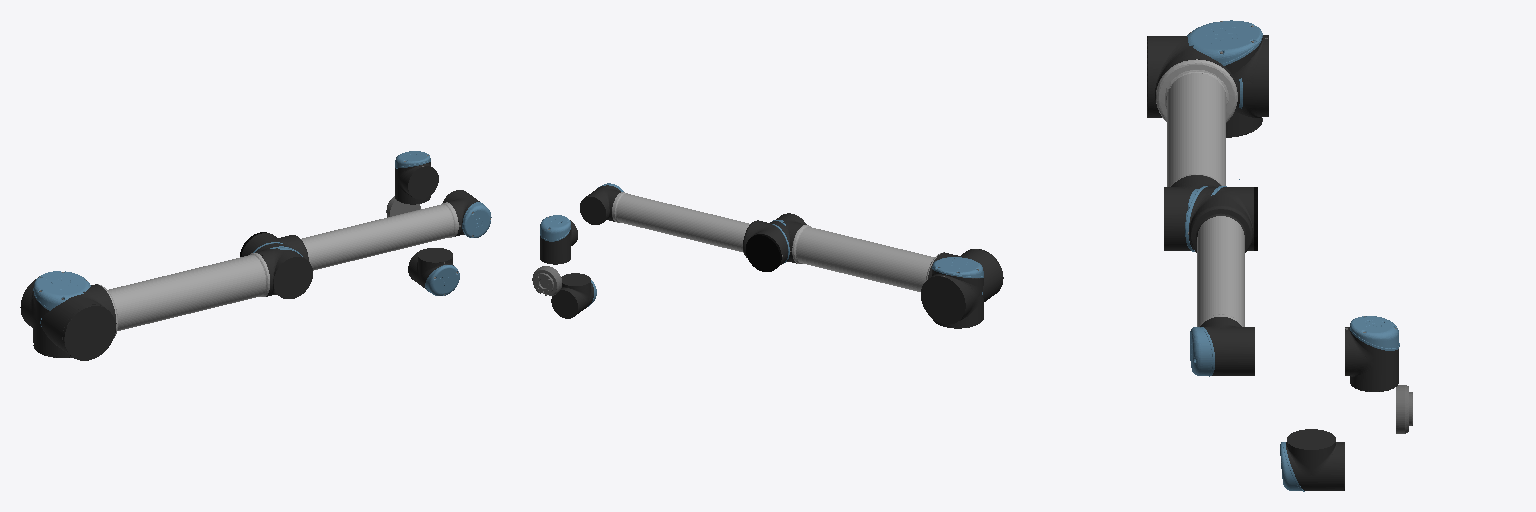
robot.urdf — ur10:
<?xml version="1.0"?>
<robot name="ur10">
  <link name="base_link"/>
  <link name="base_link_inertia"/>
  <link name="shoulder_link">
    <visual>
      <origin xyz="0 0 0" rpy="0 0 3.141592653589793"/>
      <geometry><mesh filename="meshes/ur10/shoulder.dae"/></geometry>
    </visual>
  </link>
  <link name="upper_arm_link">
    <visual>
      <origin xyz="0 0 0" rpy="1.570796327 0 -1.570796327"/>
      <geometry><mesh filename="meshes/ur10/upperarm.dae"/></geometry>
    </visual>
  </link>
  <link name="forearm_link">
    <visual>
      <origin xyz="0 0 0" rpy="1.570796327 0 -1.570796327"/>
      <geometry><mesh filename="meshes/ur10/forearm.dae"/></geometry>
    </visual>
  </link>
  <link name="wrist_1_link">
    <visual>
      <origin xyz="0 0 0" rpy="1.570796327 0 0"/>
      <geometry><mesh filename="meshes/ur10/wrist1.dae"/></geometry>
    </visual>
  </link>
  <link name="wrist_2_link">
    <visual>
      <origin xyz="0 0 0" rpy="0 0 0"/>
      <geometry><mesh filename="meshes/ur10/wrist2.dae"/></geometry>
    </visual>
  </link>
  <link name="wrist_3_link">
    <visual>
      <origin xyz="0 0 0" rpy="1.570796327 0 0"/>
      <geometry><mesh filename="meshes/ur10/wrist3.dae"/></geometry>
    </visual>
  </link>
  <joint name="base_link-base_link_inertia" type="fixed">
    <parent link="base_link"/><child link="base_link_inertia"/>
    <origin xyz="0 0 0" rpy="0 0 3.141592653589793"/>
  </joint>
  <joint name="shoulder_pan_joint" type="revolute">
    <parent link="base_link_inertia"/><child link="shoulder_link"/>
    <origin xyz="0.0 0.0 0.1273" rpy="0.0 0.0 0.0"/>
    <axis xyz="0 0 1"/>
    <limit lower="-6.283185307" upper="6.283185307" effort="330" velocity="2.0943951"/>
  </joint>
  <joint name="shoulder_lift_joint" type="revolute">
    <parent link="shoulder_link"/><child link="upper_arm_link"/>
    <origin xyz="0.0 0.0 0.0" rpy="1.570796327 0.0 0.0"/>
    <axis xyz="0 0 1"/>
    <limit lower="-6.283185307" upper="6.283185307" effort="330" velocity="2.0943951"/>
  </joint>
  <joint name="elbow_joint" type="revolute">
    <parent link="upper_arm_link"/><child link="forearm_link"/>
    <origin xyz="-0.612 0.0 0.0" rpy="0.0 0.0 0.0"/>
    <axis xyz="0 0 1"/>
    <limit lower="-3.141592654" upper="3.141592654" effort="150" velocity="3.14159265"/>
  </joint>
  <joint name="wrist_1_joint" type="revolute">
    <parent link="forearm_link"/><child link="wrist_1_link"/>
    <origin xyz="-0.5723 0.0 0.163941" rpy="0.0 0.0 0.0"/>
    <axis xyz="0 0 1"/>
    <limit lower="-6.283185307" upper="6.283185307" effort="56" velocity="3.14159265"/>
  </joint>
  <joint name="wrist_2_joint" type="revolute">
    <parent link="wrist_1_link"/><child link="wrist_2_link"/>
    <origin xyz="0.0 -0.1157 -2.373046667922381e-11" rpy="1.570796327 0.0 0.0"/>
    <axis xyz="0 0 1"/>
    <limit lower="-6.283185307" upper="6.283185307" effort="56" velocity="3.14159265"/>
  </joint>
  <joint name="wrist_3_joint" type="revolute">
    <parent link="wrist_2_link"/><child link="wrist_3_link"/>
    <origin xyz="0.0 0.0922 -1.891053610911353e-11" rpy="1.570796326589793 3.141592653589793 3.141592653589793"/>
    <axis xyz="0 0 1"/>
    <limit lower="-6.283185307" upper="6.283185307" effort="56" velocity="3.14159265"/>
  </joint>
</robot>

--- What the picture shows (computed from the rendered views, not written in the file) ---
Views: 3 orthographic renders of the robot side by side, from view 1: azimuth 30°, elevation 25°; view 2: azimuth 150°, elevation 25°; view 3: azimuth 270°, elevation 25°.
Robot: ur10 — 8 links, 7 joints (6 revolute, 1 fixed); root link base_link; default pose: all joints at 0.
Links seen in each view (by area): view 1: upper_arm_link, forearm_link, shoulder_link, wrist_1_link, wrist_2_link; view 2: forearm_link, upper_arm_link, shoulder_link, wrist_1_link, wrist_2_link, wrist_3_link; view 3: upper_arm_link, forearm_link, shoulder_link, wrist_1_link, wrist_2_link, wrist_3_link.
Boxes of the visible links, box(x1,y1,x2,y2) form: upper_arm_link: box(40, 242, 312, 360); forearm_link: box(240, 190, 491, 270); shoulder_link: box(20, 271, 90, 357); wrist_1_link: box(395, 151, 438, 204); wrist_2_link: box(408, 248, 459, 295); forearm_link: box(580, 183, 787, 271); upper_arm_link: box(772, 213, 1003, 301); shoulder_link: box(921, 257, 983, 328); wrist_1_link: box(540, 215, 577, 264); wrist_2_link: box(551, 273, 596, 318); wrist_3_link: box(532, 266, 561, 295); upper_arm_link: box(1147, 36, 1242, 250); forearm_link: box(1185, 186, 1257, 376); shoulder_link: box(1187, 20, 1268, 137); wrist_1_link: box(1345, 316, 1399, 391); wrist_2_link: box(1280, 429, 1344, 491); wrist_3_link: box(1396, 385, 1412, 433).
Bounding box of the posed robot: 1.31 × 0.4832 × 0.3792 m (x, y, z).
Meshes: 6 distinct files referenced, 6 mesh visuals loaded (6 Collada DAE).
